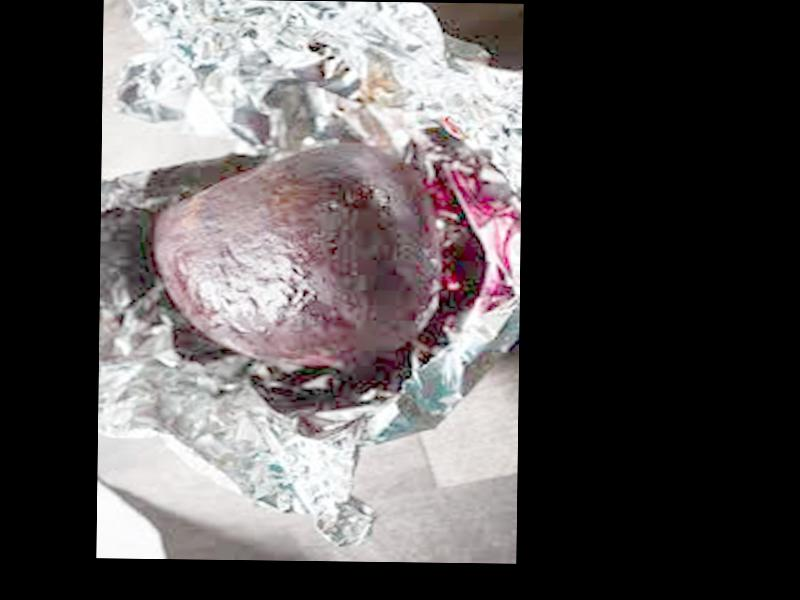Beet: (151, 140, 430, 371)
